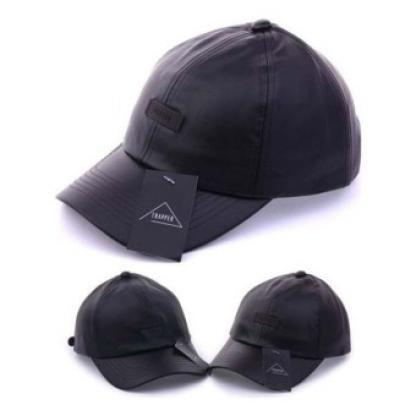cap: (37, 12, 380, 262)
